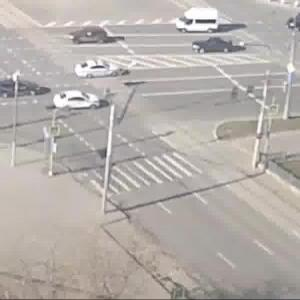car: (78, 61, 135, 82), (177, 12, 225, 35), (53, 91, 109, 110), (70, 26, 111, 45), (196, 36, 232, 57), (1, 78, 30, 98)
